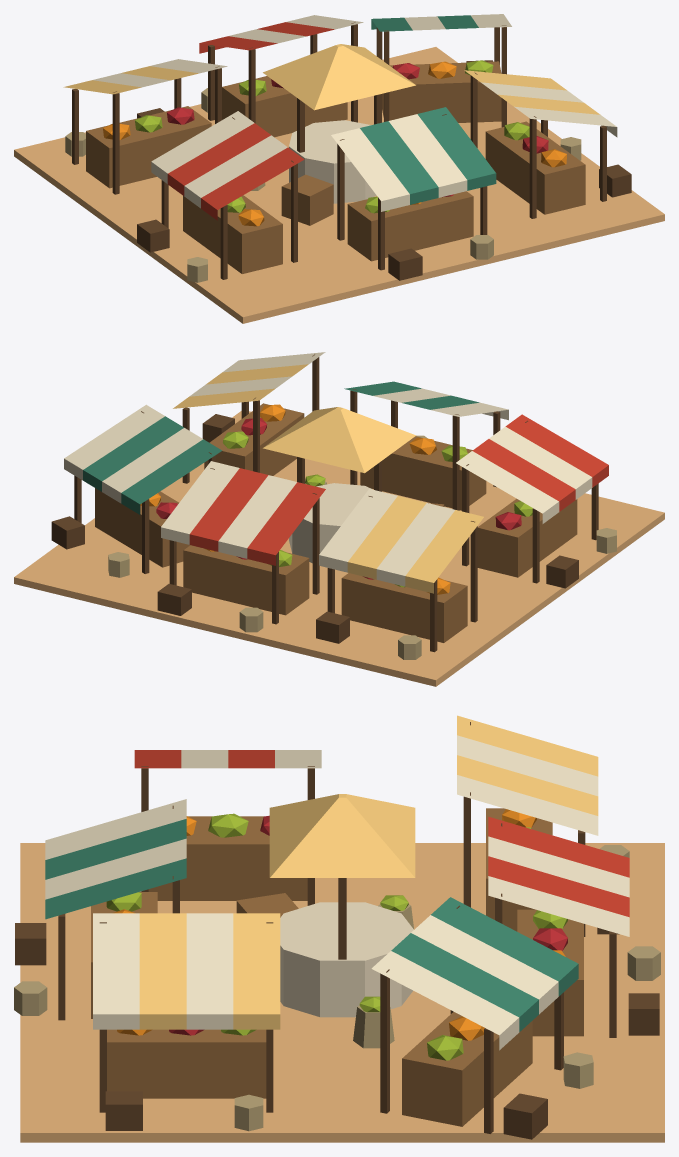
File: market.glb
The picture shows the model from 3 angles, top to bottom: view 1: azimuth 30°, elevation 25°; view 2: azimuth 150°, elevation 25°; view 3: azimuth 270°, elevation 25°; orthographic projection. The views are drawn at different scales.
Parts seen in each view (by area): view 1: market; view 2: market; view 3: market.
Part boxes in pixels (x1,y1,x2,y2): market: (14, 14, 664, 323); market: (14, 352, 664, 686); market: (14, 715, 664, 1142).
Size of the model in its own units: 3.41 by 1.07 by 3.13.
